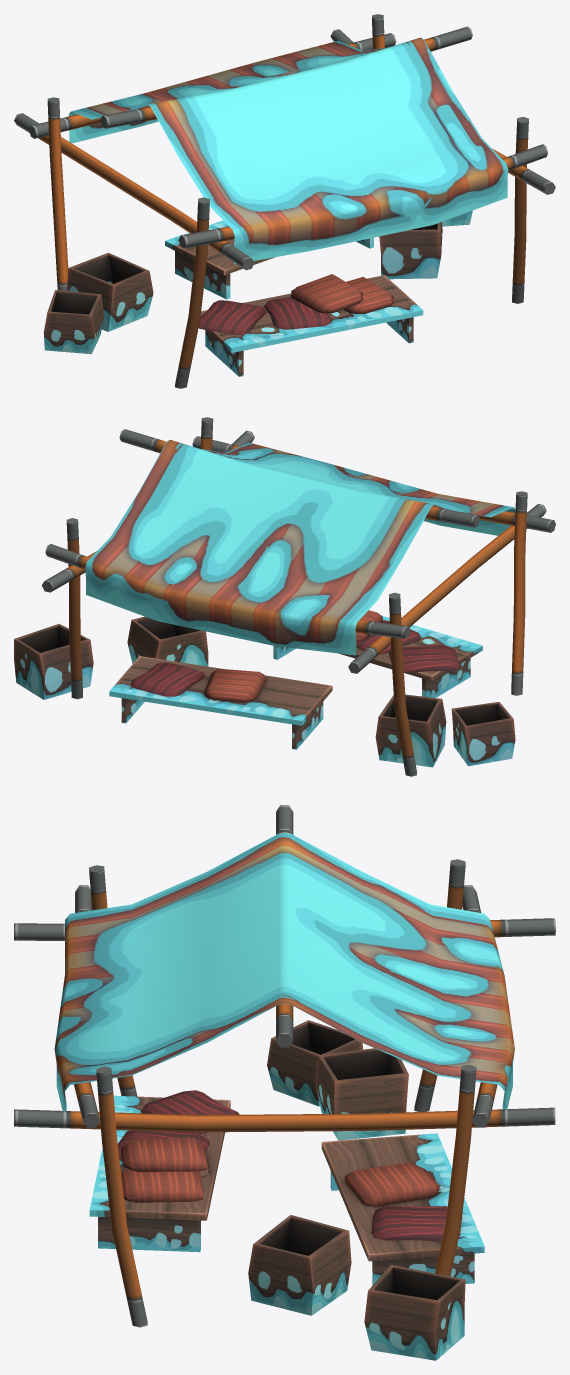
Rendered from Market1.FBX.
The picture shows the model from 3 angles, top to bottom: view 1: azimuth 30°, elevation 25°; view 2: azimuth 150°, elevation 25°; view 3: azimuth 270°, elevation 25°; orthographic projection. The views are drawn at different scales.
Visible parts, largest first — view 1: MarketStall1; view 2: MarketStall1; view 3: MarketStall1.
Part boxes in pixels (box(x1,y1,x2,y2)): MarketStall1: box(14, 14, 555, 388); MarketStall1: box(14, 417, 555, 776); MarketStall1: box(14, 805, 555, 1360).
Bounding box in the file's own units: 196 × 92.3 × 153.
